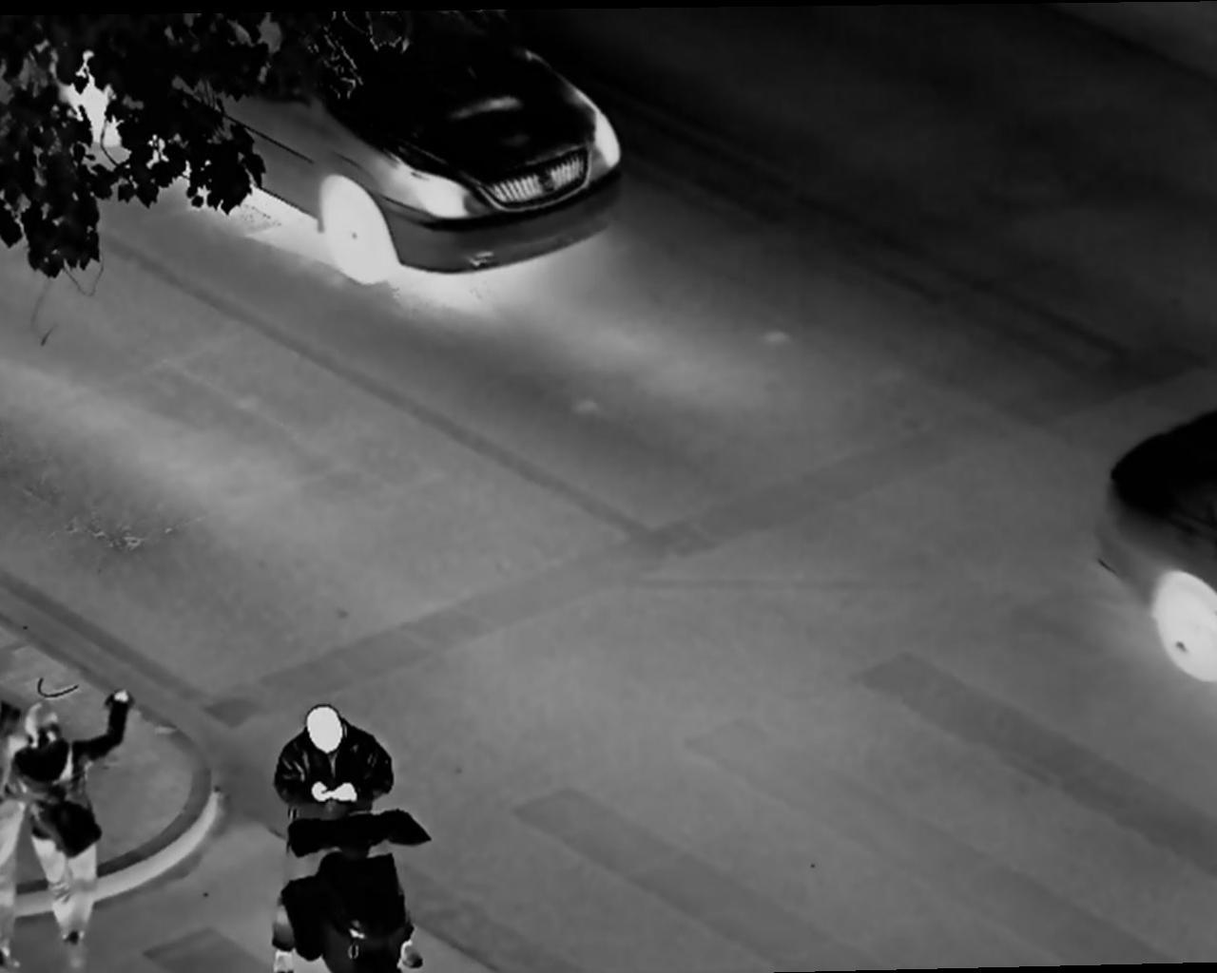person: (276, 705, 396, 959), (17, 700, 135, 944)
